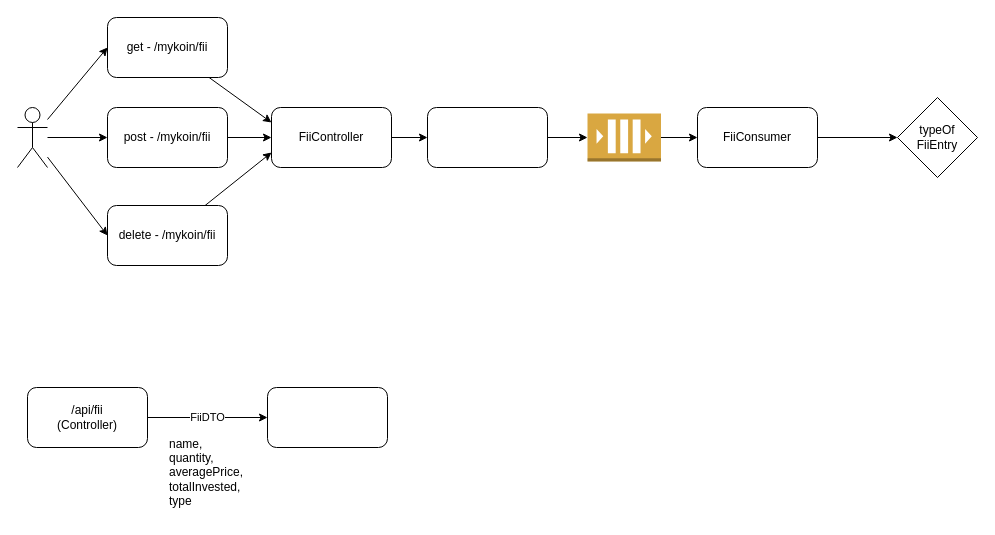
Image size: 995x535. Some labels were removed from this diagram. The centre of each missing label's shape, as x and y in pixels:
"(Producer)" goes at [327,417].
"Actor" goes at [32,137].
"FiiProducer" goes at [487,137].
"Kafka - Topic: fii_topic Partitions: 3" goes at [623,137].
